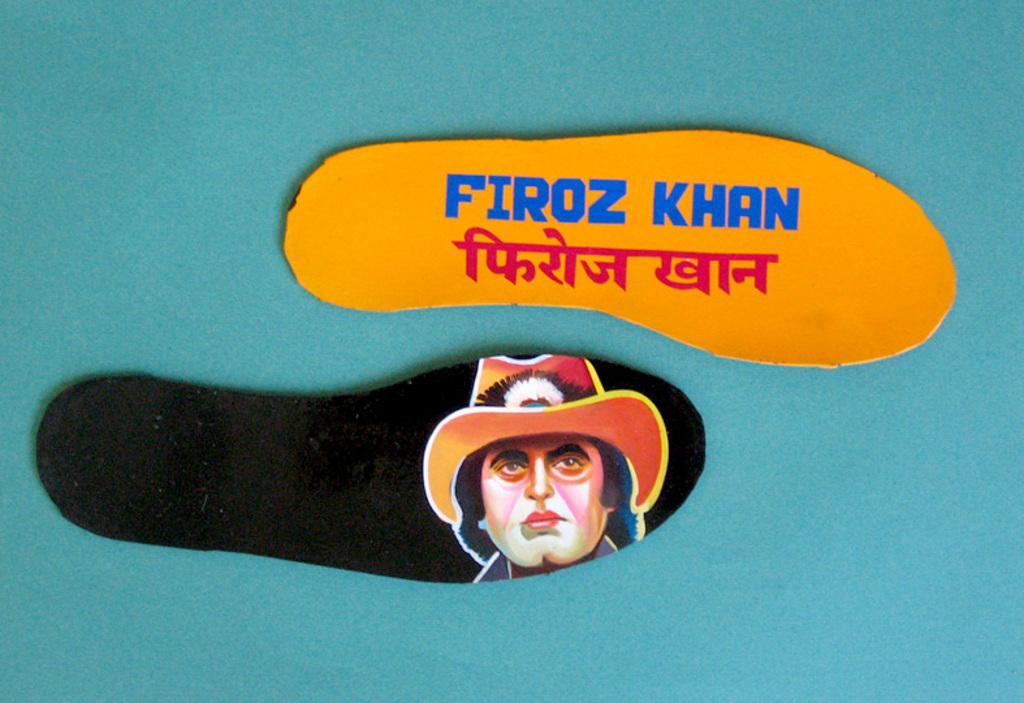Hat: (422, 350, 668, 522)
